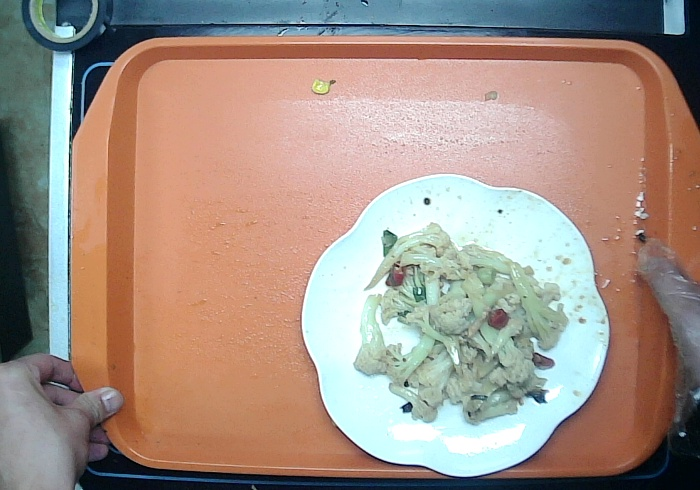HZYJPL-Bai_Se_Hua_Duo_Wan: (297, 172, 612, 476)
